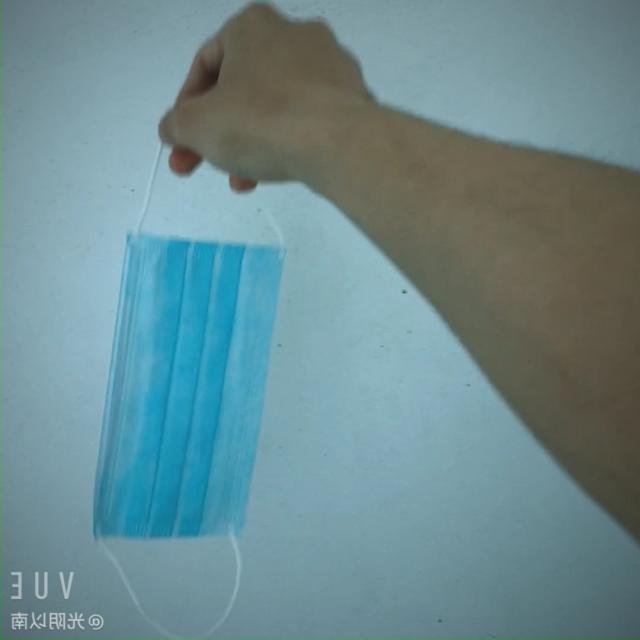face mask: (86, 219, 292, 534)
